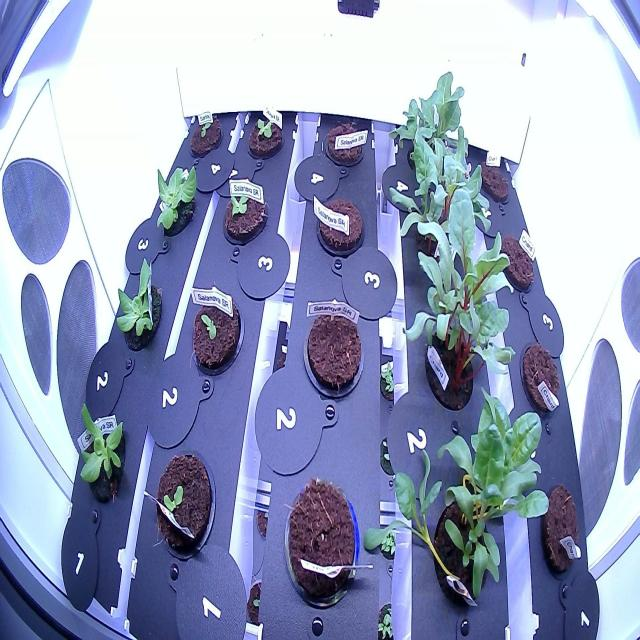germination: (153, 447, 220, 566), (186, 281, 246, 376), (184, 108, 224, 164)
pod: (278, 470, 366, 616), (302, 288, 368, 402), (530, 472, 586, 584), (517, 330, 568, 422), (313, 190, 369, 260), (318, 112, 371, 175), (495, 224, 540, 296), (472, 142, 517, 210)
young: (67, 394, 131, 509), (142, 155, 208, 243), (111, 252, 169, 349), (213, 173, 270, 254), (242, 103, 287, 166)
